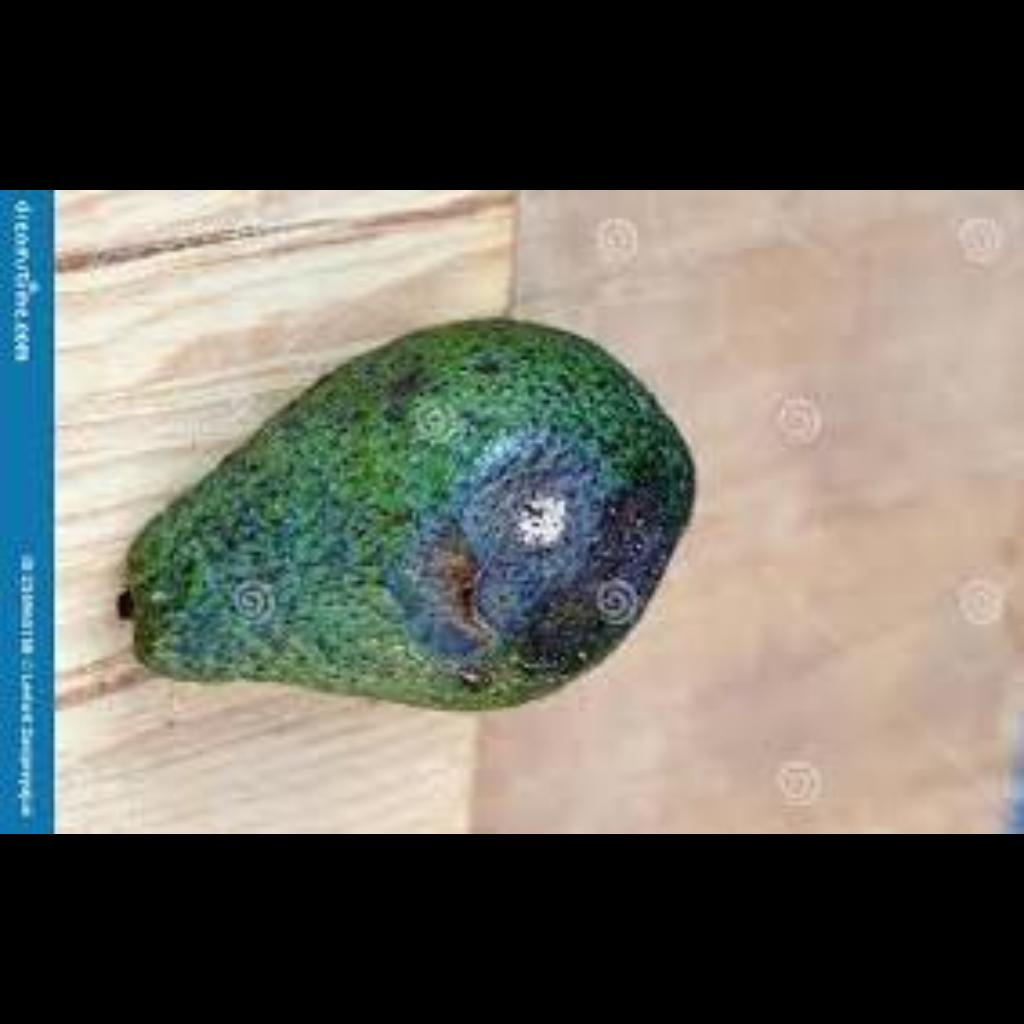antracnosis_fruto: (157, 352, 667, 690)
